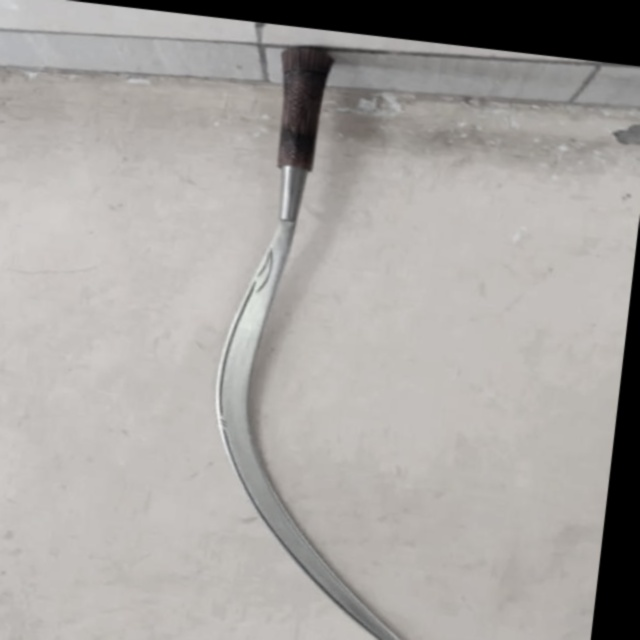Sharp-Object: (180, 41, 530, 640)
